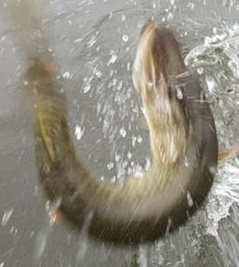Esox lucius: (20, 20, 219, 247)
